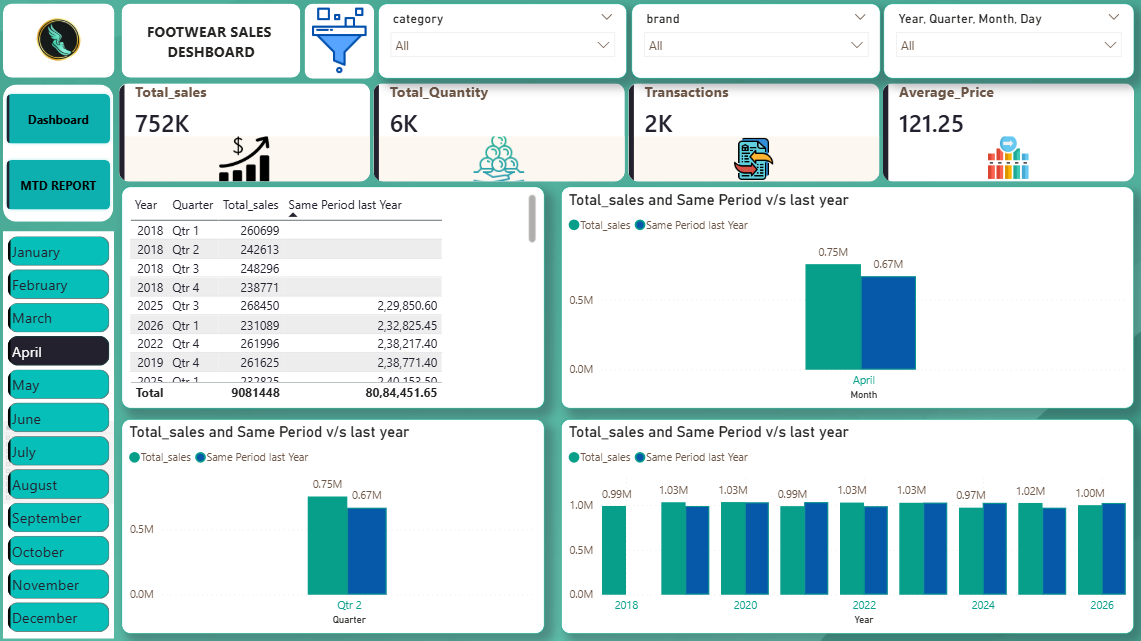

Layout of this report page (visuals, bound fields, positions):
{"tool":"powerbi","page":{"name":"Same period last year","canvas":[1280,720],"ordinal":2},"visuals":[{"type":"shape","box":[6.2,7.5,123.8,82.5],"z":0},{"type":"shape","box":[6.2,97.5,122.5,152.5],"z":1000},{"type":"image","box":[6.2,7.5,122.5,82.5],"z":2000},{"type":"cardVisual","fields":{"Data":["footwear_sales_data.Total_sales","footwear_sales_data.Total_Quantity","footwear_sales_data.Transactions","footwear_sales_data.Average_Price"]},"box":[117.7,80,1162.3,143.8],"z":3000},{"type":"slicer","fields":{"Values":["footwear_sales_data.category"]},"box":[423.3,8.3,276.7,83.3],"z":4000},{"type":"slicer","fields":{"Values":["footwear_sales_data.brand"]},"box":[705,8.3,276.7,83.3],"z":5000},{"type":"slicer","fields":{"Values":["Date_column.Date.Variation.Date Hierarchy.Year","Date_column.Date.Variation.Date Hierarchy.Quarter","Date_column.Date.Variation.Date Hierarchy.Month","Date_column.Date.Variation.Date Hierarchy.Day"]},"box":[985,8.3,278.3,83.3],"z":6000},{"type":"shape","box":[341.2,7.5,77.5,83.8],"z":7000},{"type":"image","box":[341.2,11.2,77.5,75],"z":8000},{"type":"shape","box":[137.5,7.5,198.8,82.5],"z":9000},{"type":"textbox","box":[161.2,22.5,152.5,52.5],"z":10000},{"type":"advancedSlicerVisual","box":[6.2,261.5,123.1,452.3],"z":11000},{"type":"advancedSlicerVisual","box":[6.7,261.7,123.3,451.7],"z":12000},{"type":"advancedSlicerVisual","fields":{"Values":["Date_column.Date.Variation.Date Hierarchy.Month"]},"box":[6.7,261.7,123.3,458.3],"z":13000},{"type":"tableEx","fields":{"Values":["Date_column.Date.Variation.Date Hierarchy.Year","Date_column.Date.Variation.Date Hierarchy.Quarter","footwear_sales_data.Total_sales","footwear_sales_data.Same Period last Year"]},"box":[138.3,211.7,470,246.7],"z":14000},{"type":"clusteredColumnChart","title":"Total_sales and Same Period v/s last  year","fields":{"Y":["footwear_sales_data.Total_sales","footwear_sales_data.Same Period last Year"],"Category":["Date_column.Date.Variation.Date Hierarchy.Month"]},"box":[626.7,211.7,636.7,246.7],"z":15000},{"type":"clusteredColumnChart","title":"Total_sales and Same Period v/s last  year","fields":{"Category":["Date_column.Date.Variation.Date Hierarchy.Year","Date_column.Date.Variation.Date Hierarchy.Quarter"],"Y":["footwear_sales_data.Total_sales","footwear_sales_data.Same Period last Year"]},"box":[138.3,470,470,238.3],"z":16000},{"type":"clusteredColumnChart","title":"Total_sales and Same Period v/s last  year","fields":{"Category":["Date_column.Date.Variation.Date Hierarchy.Year","Date_column.Date.Variation.Date Hierarchy.Quarter"],"Y":["footwear_sales_data.Total_sales","footwear_sales_data.Same Period last Year"]},"box":[626.7,470,636.7,238.3],"z":17000},{"type":"pageNavigator","box":[6.7,105,123.3,136.7],"z":18000}]}

Visuals, with their boxes in screenshot pixels (x1, y1, x2, y2), scaled from the page's 1280x720 canvas onto the 1141x641 screenshot:
shape: (6,7,116,80)
shape: (6,87,115,223)
image: (6,7,115,80)
cardVisual - footwear_sales_data.Total_sales x footwear_sales_data.Total_Quantity: (105,71,1140,199)
slicer - footwear_sales_data.category: (377,7,624,82)
slicer - footwear_sales_data.brand: (628,7,875,82)
slicer - Date_column.Date.Variation.Date Hierarchy.Year x Date_column.Date.Variation.Date Hierarchy.Quarter: (878,7,1126,82)
shape: (304,7,373,81)
image: (304,10,373,77)
shape: (123,7,300,80)
textbox: (144,20,280,67)
advancedSlicerVisual: (6,233,115,635)
advancedSlicerVisual: (6,233,116,635)
advancedSlicerVisual - Date_column.Date.Variation.Date Hierarchy.Month: (6,233,116,640)
tableEx - Date_column.Date.Variation.Date Hierarchy.Year x Date_column.Date.Variation.Date Hierarchy.Quarter: (123,188,542,408)
"Total_sales and Same Period v/s last  year" clusteredColumnChart: (559,188,1126,408)
"Total_sales and Same Period v/s last  year" clusteredColumnChart: (123,418,542,631)
"Total_sales and Same Period v/s last  year" clusteredColumnChart: (559,418,1126,631)
pageNavigator: (6,93,116,215)
